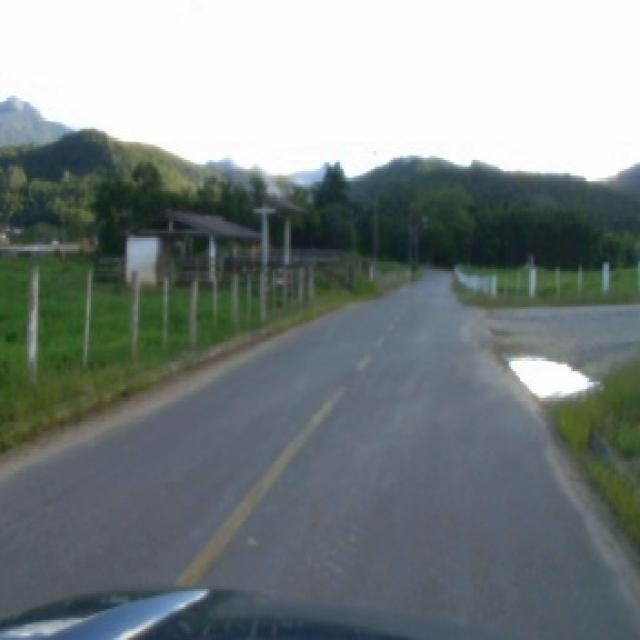Poth-hole: (506, 356, 596, 396)
